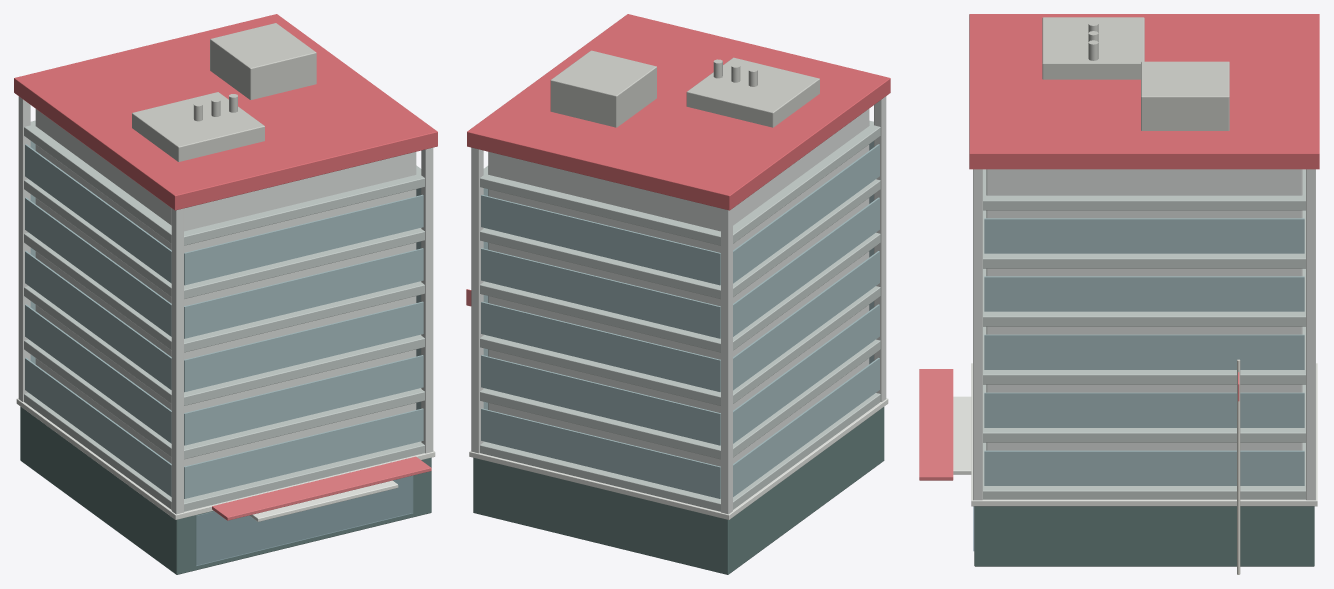
The model's file is LM_ENV_TowerDAP.glb.
3 renders of one model, left to right at view 1: azimuth 30°, elevation 25°; view 2: azimuth 150°, elevation 25°; view 3: azimuth 270°, elevation 25°, orthographic. The views are drawn at different scales.
Visible parts, largest first — view 1: TowerDAP | Curtain glass, TowerDAP | Accent civic (0.78, 0.18, 0.2), TowerDAP | Spandrel band, TowerDAP | Office wall, TowerDAP | Dark trim, TowerDAP | Roof plant, TowerDAP | Lobby glass, TowerDAP | Civic red, TowerDAP | Entrance canopy; view 2: TowerDAP | Curtain glass, TowerDAP | Accent civic (0.78, 0.18, 0.2), TowerDAP | Spandrel band, TowerDAP | Office wall, TowerDAP | Dark trim, TowerDAP | Roof plant, TowerDAP | Entrance canopy; view 3: TowerDAP | Curtain glass, TowerDAP | Accent civic (0.78, 0.18, 0.2), TowerDAP | Spandrel band, TowerDAP | Office wall, TowerDAP | Dark trim, TowerDAP | Roof plant, TowerDAP | Entrance canopy, TowerDAP | Civic red, TowerDAP | Flagpole.
Boxes of the visible parts, x1,y1,x2,y2 form: TowerDAP | Curtain glass: [25, 141, 423, 498]; TowerDAP | Accent civic (0.78, 0.18, 0.2): [14, 14, 437, 210]; TowerDAP | Spandrel band: [24, 120, 424, 511]; TowerDAP | Office wall: [18, 96, 433, 514]; TowerDAP | Dark trim: [20, 406, 431, 574]; TowerDAP | Roof plant: [132, 23, 316, 161]; TowerDAP | Lobby glass: [195, 475, 413, 565]; TowerDAP | Civic red: [212, 456, 431, 520]; TowerDAP | Entrance canopy: [16, 398, 435, 521]; TowerDAP | Curtain glass: [481, 141, 879, 498]; TowerDAP | Accent civic (0.78, 0.18, 0.2): [467, 14, 890, 210]; TowerDAP | Spandrel band: [480, 120, 880, 511]; TowerDAP | Office wall: [471, 96, 886, 514]; TowerDAP | Dark trim: [473, 407, 884, 574]; TowerDAP | Roof plant: [550, 50, 819, 127]; TowerDAP | Entrance canopy: [469, 398, 888, 519]; TowerDAP | Curtain glass: [984, 218, 1304, 485]; TowerDAP | Accent civic (0.78, 0.18, 0.2): [969, 14, 1319, 169]; TowerDAP | Spandrel band: [983, 169, 1305, 499]; TowerDAP | Office wall: [973, 169, 1315, 500]; TowerDAP | Dark trim: [974, 506, 1314, 566]; TowerDAP | Roof plant: [1042, 17, 1229, 130]; TowerDAP | Entrance canopy: [953, 363, 1317, 506]; TowerDAP | Civic red: [919, 369, 1239, 480]; TowerDAP | Flagpole: [1237, 359, 1240, 574].
Size of the model in its own units: 18.85 by 24.8 by 20.
